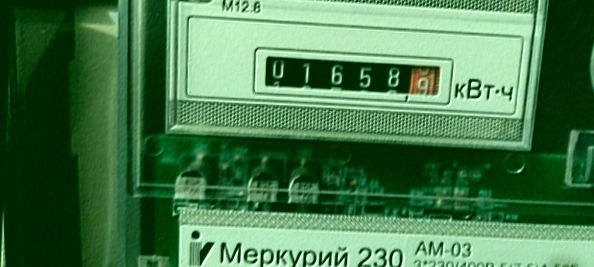0: (271, 57, 285, 80)
1: (301, 62, 312, 84)
5: (358, 65, 373, 89)
6: (329, 63, 344, 85)
8: (386, 65, 401, 88)
9: (414, 75, 428, 97)
screen: (246, 41, 461, 110)
